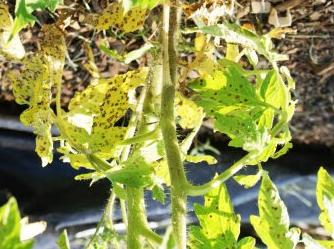Tomato Septoria leaf spot: (185, 59, 293, 148), (11, 10, 73, 158), (65, 60, 149, 149), (252, 174, 309, 249), (190, 189, 252, 249)
